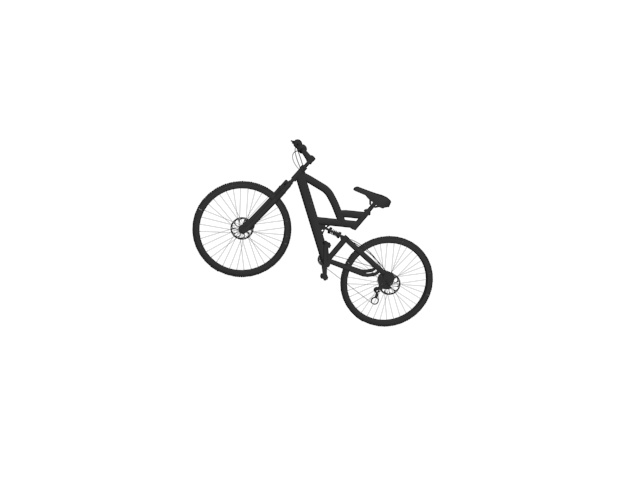bike: (193, 137, 440, 328)
